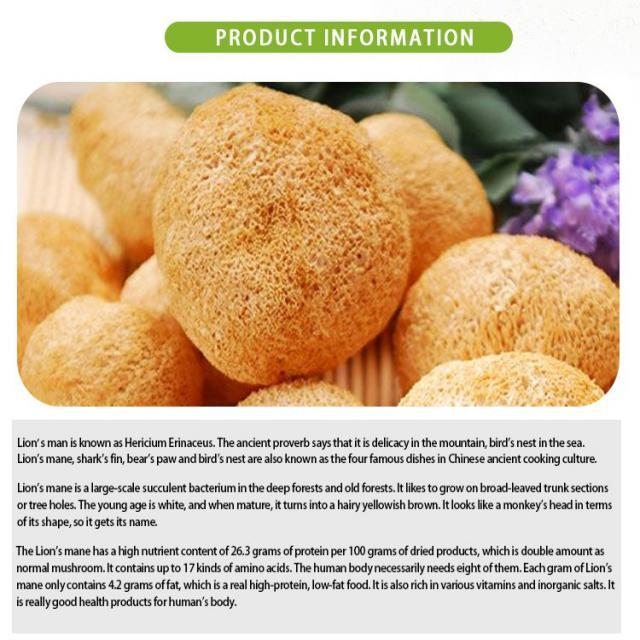Hericium erinaceus: (153, 84, 408, 386), (398, 237, 623, 386), (352, 114, 498, 276), (24, 295, 203, 401)
